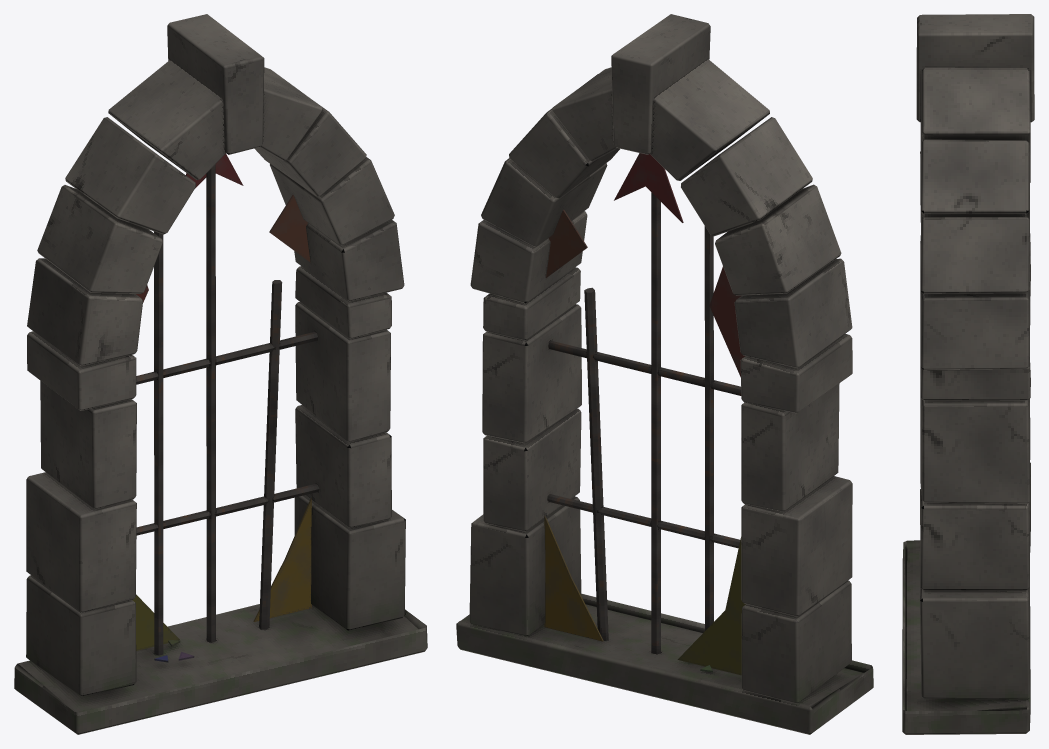
File: window.glb
The picture shows the model from 3 angles, left to right: view 1: azimuth 30°, elevation 25°; view 2: azimuth 150°, elevation 25°; view 3: azimuth 270°, elevation 25°; orthographic projection.
Visible parts, largest first — view 1: Window; view 2: Window; view 3: Window.
Boxes of the visible parts, bbox=[...] form: Window: bbox=[14, 14, 427, 734]; Window: bbox=[456, 14, 873, 734]; Window: bbox=[902, 14, 1034, 734].
Size of the model in its own units: 1.34 by 2.29 by 0.4379.
Materials: 1 (1 with a texture image).
